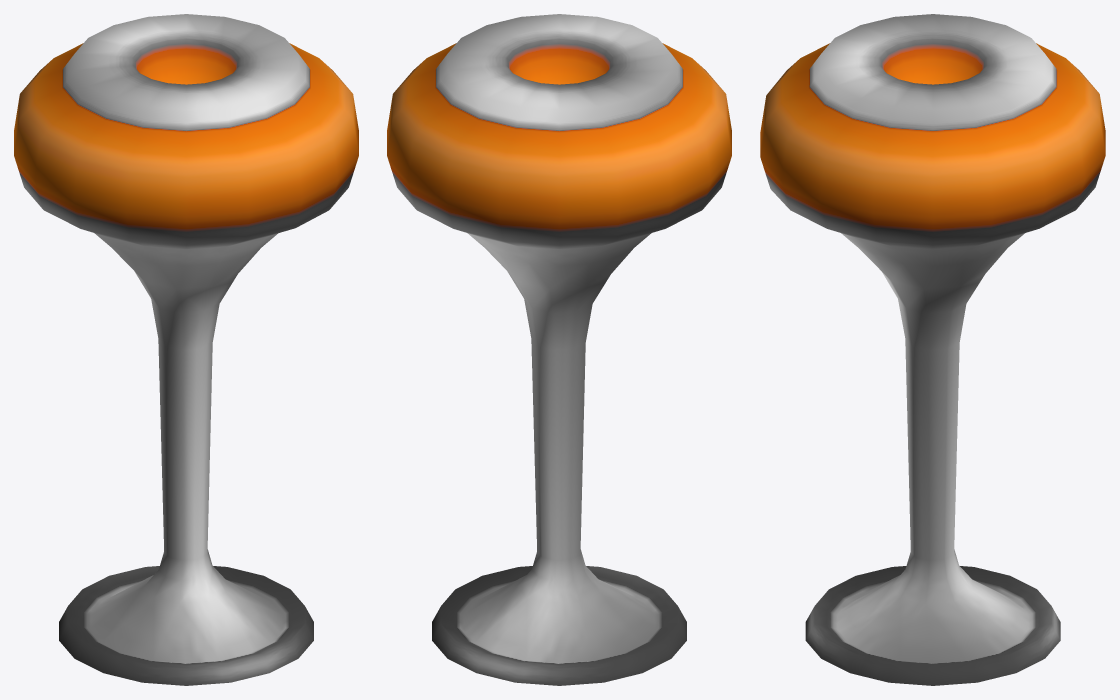
The model's file is rmk_fut_lamp.dae.
The picture shows the model from 3 angles, left to right: view 1: azimuth 30°, elevation 25°; view 2: azimuth 150°, elevation 25°; view 3: azimuth 270°, elevation 25°; orthographic projection.
Parts seen in each view (by area): view 1: rmk_fut_lamp; view 2: rmk_fut_lamp; view 3: rmk_fut_lamp.
Part boxes in pixels (x1,y1,x2,y2): rmk_fut_lamp: [14, 14, 358, 685]; rmk_fut_lamp: [387, 14, 731, 685]; rmk_fut_lamp: [760, 14, 1105, 685].
Size of the model in its own units: 19.89 by 35.69 by 19.6.
Materials: 1 (1 with a texture image).
